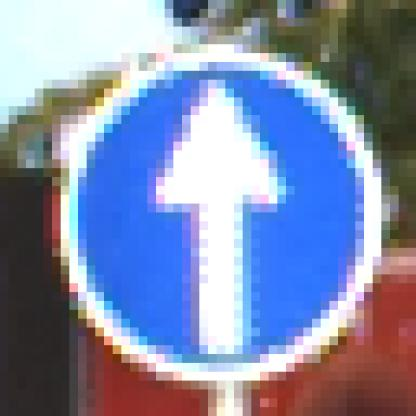AheadOnly: (53, 45, 374, 373)
